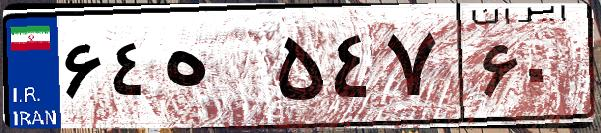0: (525, 38, 570, 115)
4: (330, 28, 385, 110), (110, 28, 158, 98)
5: (270, 28, 330, 110)
6: (57, 26, 110, 100), (475, 38, 525, 113)
7: (385, 28, 445, 110)
ه: (158, 20, 270, 120)
